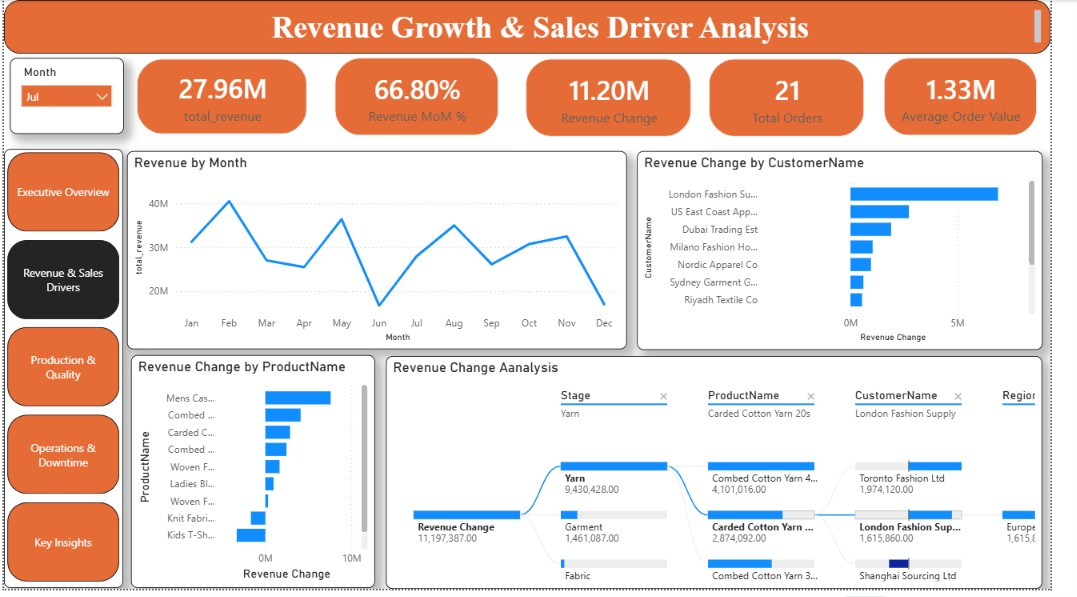

The dashboard page shown, as its layout file describes it:
{"tool":"powerbi","page":{"name":"Revenue & Sales Drivers","canvas":[1280,720],"ordinal":1},"visuals":[{"type":"pageNavigator","box":[0,182.3,145.8,537.1],"z":0},{"type":"cardVisual","fields":{"Data":["measure.Average Order Value"]},"box":[1058.7,53.3,221.6,129],"z":1000},{"type":"cardVisual","fields":{"Data":["measure.Total Orders"]},"box":[845.6,54.7,224.4,129],"z":3000},{"type":"cardVisual","fields":{"Data":["measure.Revenue MoM %"]},"box":[387,53.3,234.2,129],"z":4000},{"type":"cardVisual","fields":{"Data":["measure.total_revenue"]},"box":[145.8,54.7,242.6,126.2],"z":5000},{"type":"lineChart","title":"Revenue by Month","fields":{"Category":["Date.Month"],"Y":["measure.total_revenue"]},"box":[150.2,184.4,611.2,242.4],"z":6000},{"type":"clusteredBarChart","fields":{"Category":["Dim_Products.ProductName"],"Y":["measure.Revenue Change"]},"box":[155.7,434.7,298.7,284.7],"z":7000},{"type":"clusteredBarChart","fields":{"Category":["Dim_Customers.CustomerName"],"Y":["measure.Revenue Change"]},"box":[774,184.4,496.1,242.9],"z":8000},{"type":"decompositionTreeVisual","title":"Revenue Change Aanalysis","fields":{"ExplainBy":["Dim_Products.Stage","Dim_Products.ProductName","Dim_Customers.CustomerName","Dim_Customers.Region"],"Analyze":["measure.Revenue Change"]},"box":[467.5,435.1,802.6,284.4],"z":9000},{"type":"slicer","fields":{"Values":["Date.Month"]},"box":[7,71.5,138.8,92.6],"z":10000},{"type":"cardVisual","fields":{"Data":["measure.Revenue Change"]},"box":[621.2,54.7,237,129],"z":11000},{"type":"textbox","box":[0,0,1280.3,65.9],"z":12000}]}

Visuals, with their boxes in screenshot pixels (x1, y1, x2, y2), scaled from the page's 1280x720 canvas onto the 1077x597 screenshot:
pageNavigator: (left=0, top=151, right=123, bottom=596)
cardVisual - measure.Average Order Value: (left=891, top=44, right=1076, bottom=151)
cardVisual - measure.Total Orders: (left=711, top=45, right=900, bottom=152)
cardVisual - measure.Revenue MoM %: (left=326, top=44, right=523, bottom=151)
cardVisual - measure.total_revenue: (left=123, top=45, right=327, bottom=150)
"Revenue by Month" lineChart: (left=126, top=153, right=641, bottom=354)
clusteredBarChart - Dim_Products.ProductName x measure.Revenue Change: (left=131, top=360, right=382, bottom=596)
clusteredBarChart - Dim_Customers.CustomerName x measure.Revenue Change: (left=651, top=153, right=1069, bottom=354)
"Revenue Change Aanalysis" decompositionTreeVisual: (left=393, top=361, right=1069, bottom=596)
slicer - Date.Month: (left=6, top=59, right=123, bottom=136)
cardVisual - measure.Revenue Change: (left=523, top=45, right=722, bottom=152)
textbox: (left=0, top=0, right=1076, bottom=55)
